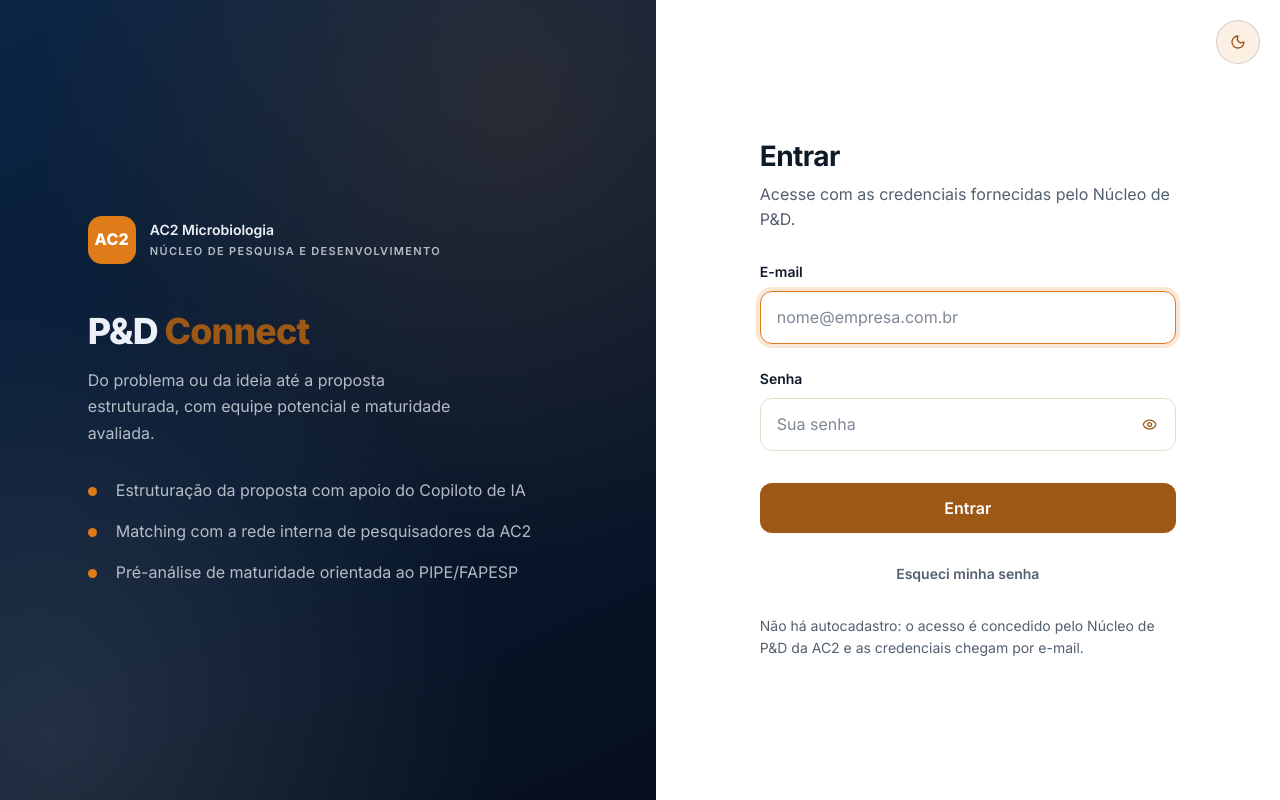
Test: LoginPage — validacao no cliente › sem e-mail: alerta, campo invalido e foco no campo a corrigir
Click the button "Entrar" at (968, 508), box [760,483,1176,533]
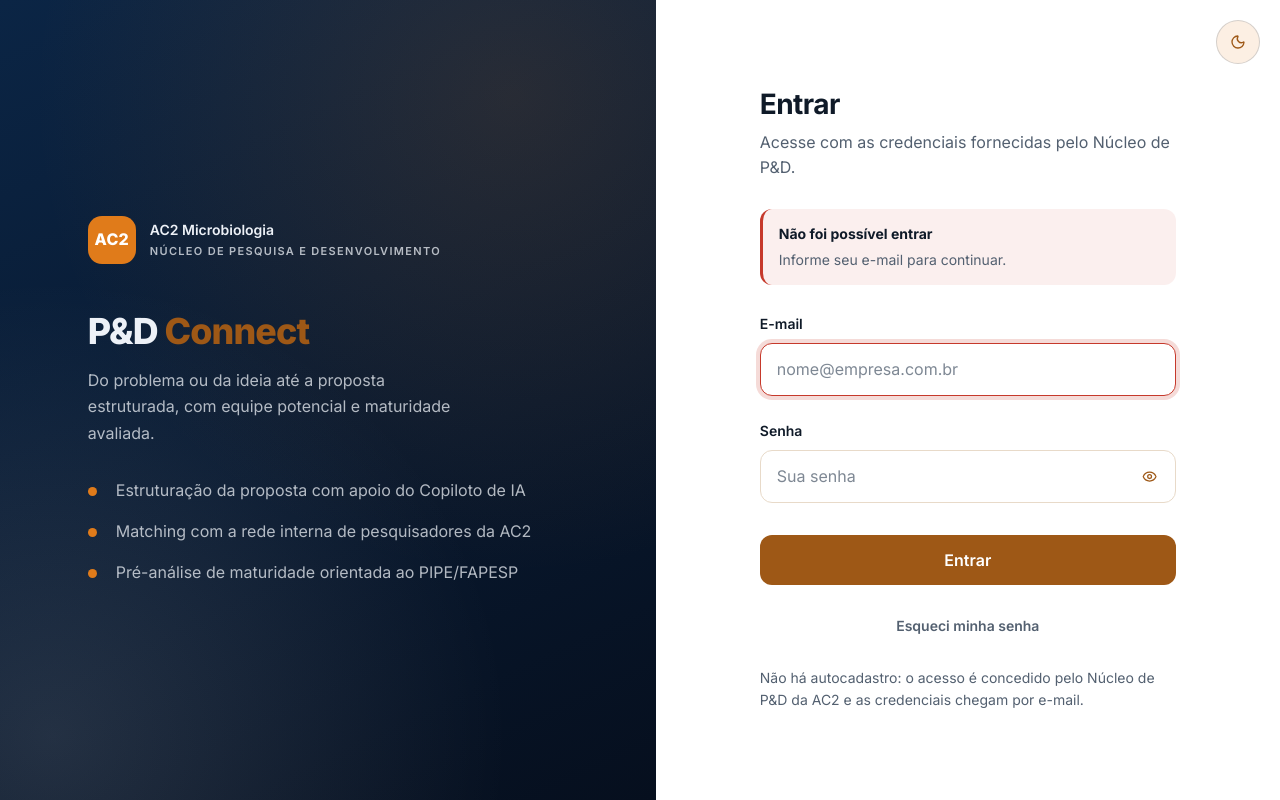
Now the message shows "Informe seu e-mail para continuar.", box [779,251,1006,268]
